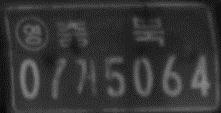0: (18, 58, 41, 101), (131, 55, 154, 98)
4: (189, 55, 211, 98)
5: (104, 55, 127, 99)
6: (160, 54, 183, 98)
7: (46, 55, 67, 101)
거: (72, 57, 99, 95)
영: (14, 15, 50, 52)
충북_D: (56, 16, 165, 49)
